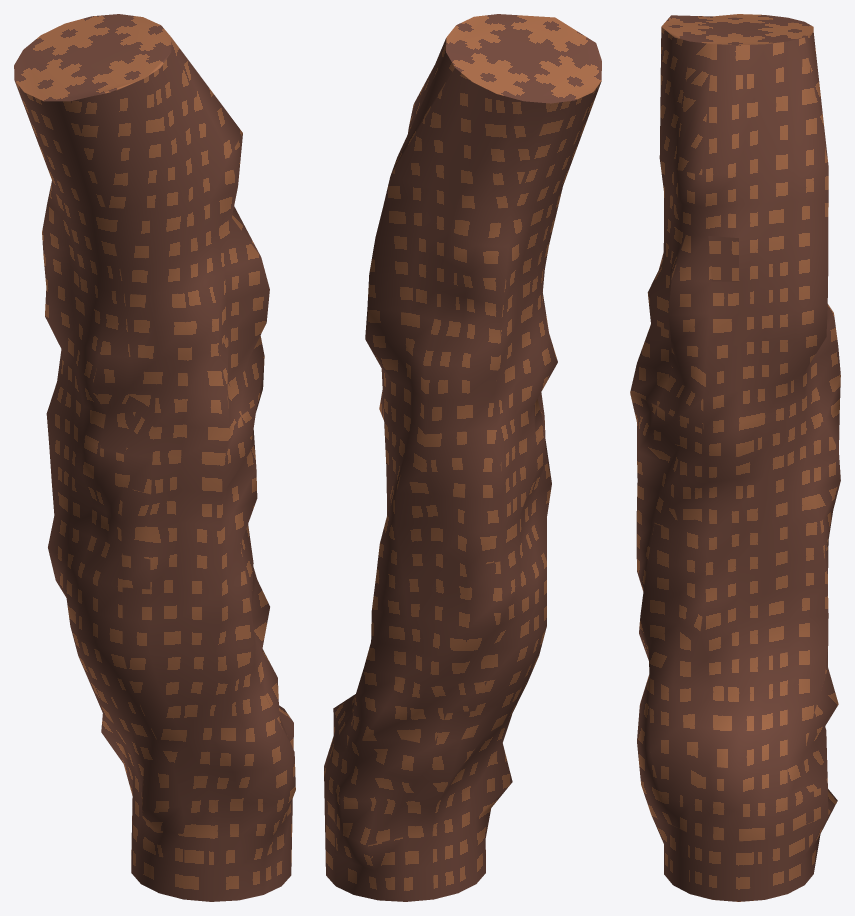
The model's file is TroncoArvore2.fbx.
The picture shows the model from 3 angles, left to right: view 1: azimuth 30°, elevation 25°; view 2: azimuth 150°, elevation 25°; view 3: azimuth 270°, elevation 25°; orthographic projection. The views are drawn at different scales.
Visible parts, largest first — view 1: Cylinder001; view 2: Cylinder001; view 3: Cylinder001.
Boxes of the visible parts, box(x1,y1,x2,y2) form: Cylinder001: box(14, 14, 295, 901); Cylinder001: box(324, 14, 601, 901); Cylinder001: box(630, 14, 840, 901).
Bounding box in the file's own units: 33.64 × 106 × 25.25.
Materials: 2 (2 with a texture image).
